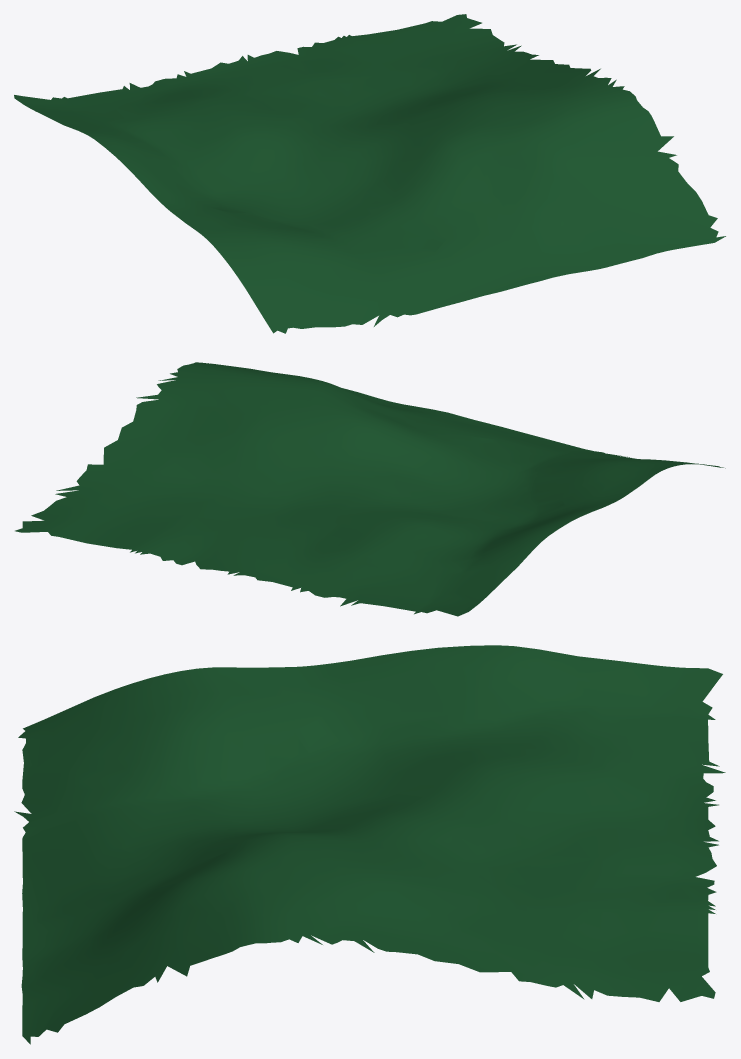
File: payo_land_xm4_ym1_lod1.glb
3 views of the same model, one above another, from view 1: azimuth 30°, elevation 25°; view 2: azimuth 150°, elevation 25°; view 3: azimuth 270°, elevation 25° (orthographic). The views are drawn at different scales.
Parts seen in each view (by area): view 1: payo_land_xm4_ym1; view 2: payo_land_xm4_ym1; view 3: payo_land_xm4_ym1.
Part boxes in pixels (x1,y1,x2,y2): payo_land_xm4_ym1: (14,14,725,333); payo_land_xm4_ym1: (15,362,725,616); payo_land_xm4_ym1: (14,645,725,1044).
Size of the model in its own units: 263 by 43.47 by 265.
